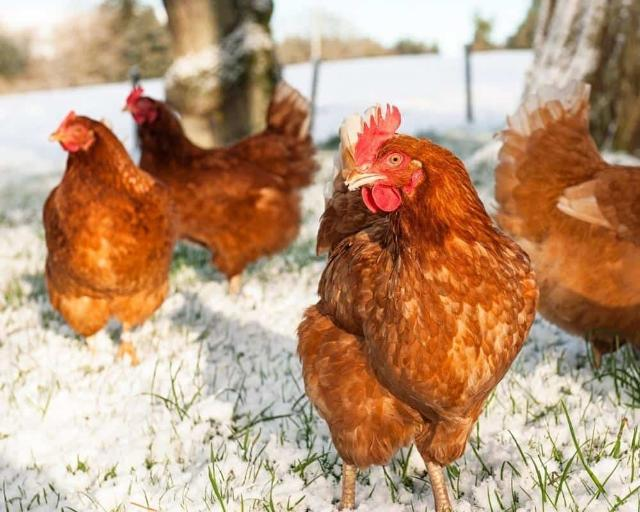Chicken: (300, 102, 540, 512), (492, 80, 640, 371), (123, 80, 321, 293), (45, 108, 176, 367)
